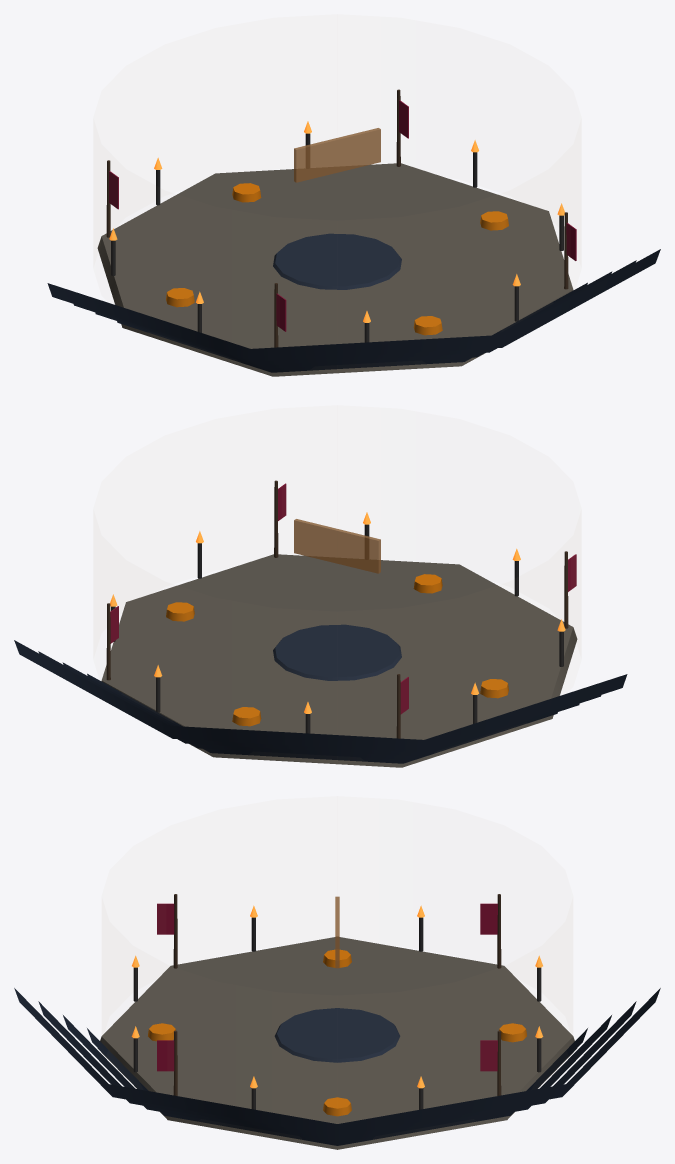
Rendered from evt_04.glb.
3 renders of one model, top to bottom at view 1: azimuth 30°, elevation 25°; view 2: azimuth 150°, elevation 25°; view 3: azimuth 270°, elevation 25°, orthographic. The views are drawn at different scales.
Visible parts, largest first — view 1: scenario_tile_round_floor, EVT_04, coliseum_honor_dais, coliseum_banners; view 2: scenario_tile_round_floor, EVT_04, coliseum_honor_dais, coliseum_banners; view 3: scenario_tile_round_floor, EVT_04, coliseum_honor_dais, coliseum_banners.
Boxes of the visible parts, left/top/right/bottom form: scenario_tile_round_floor: left=97, top=163, right=573, bottom=376; EVT_04: left=47, top=121, right=660, bottom=372; coliseum_honor_dais: left=273, top=233, right=401, bottom=289; coliseum_banners: left=106, top=89, right=576, bottom=347; scenario_tile_round_floor: left=101, top=554, right=577, bottom=767; EVT_04: left=14, top=512, right=627, bottom=763; coliseum_honor_dais: left=273, top=624, right=401, bottom=680; coliseum_banners: left=106, top=480, right=576, bottom=738; scenario_tile_round_floor: left=97, top=937, right=577, bottom=1149; EVT_04: left=14, top=896, right=660, bottom=1145; coliseum_honor_dais: left=274, top=1008, right=400, bottom=1062; coliseum_banners: left=157, top=894, right=501, bottom=1095.
Size of the model in its own units: 48 by 12.5 by 48.
